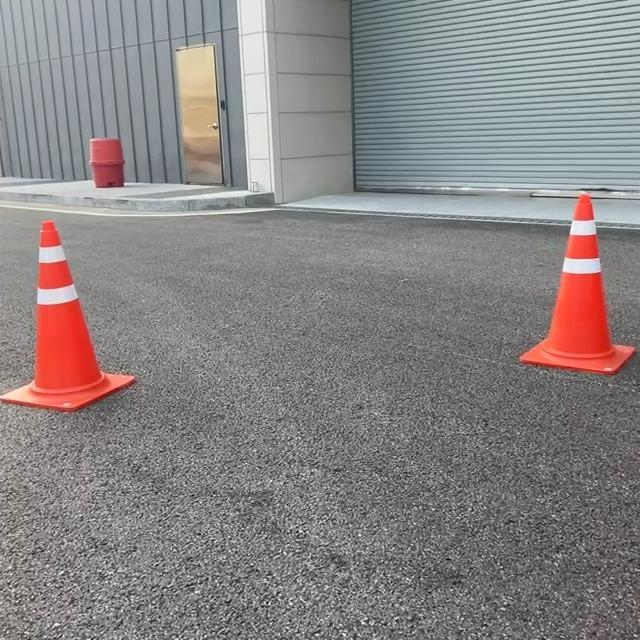fallen_object: (430, 135, 625, 399), (0, 191, 137, 445)
